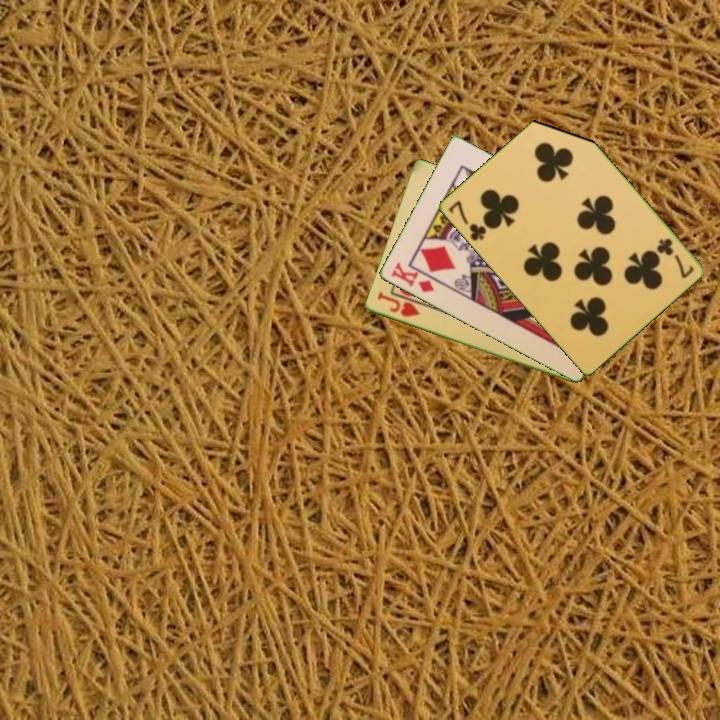7c: (444, 197, 489, 244), (652, 234, 696, 281)
Jh: (373, 289, 423, 320)
Kd: (387, 259, 437, 296)
